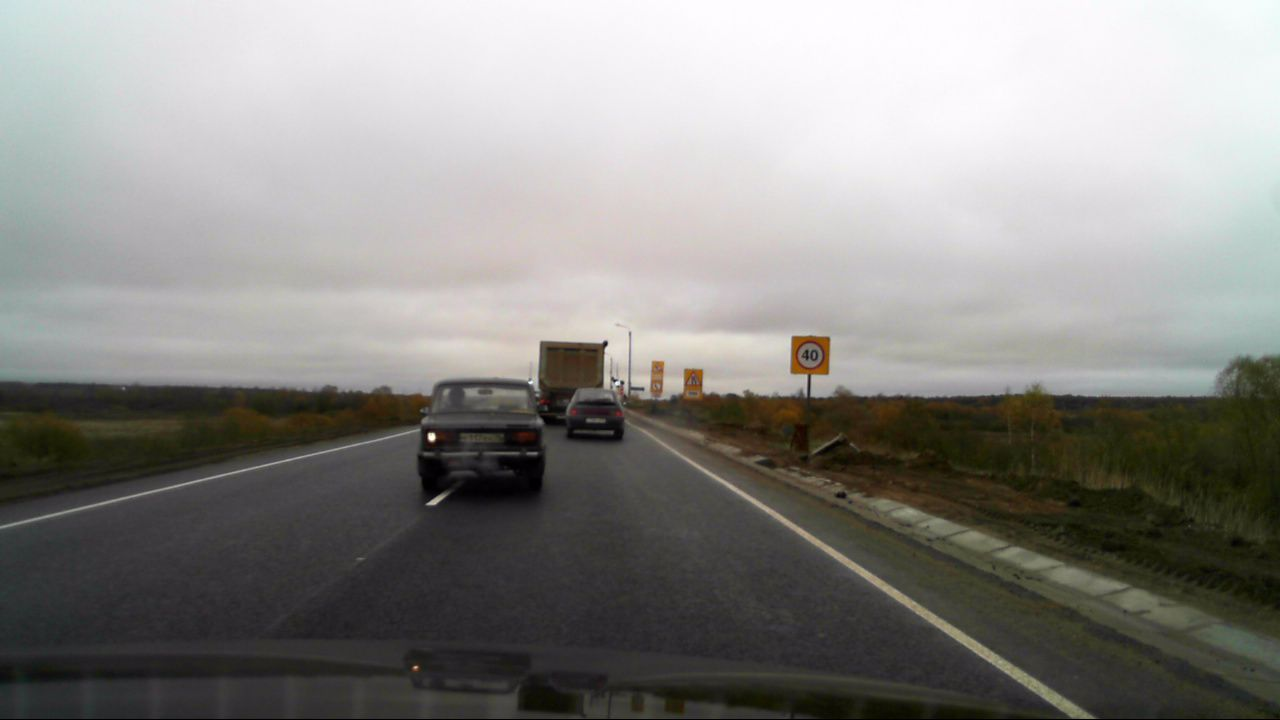speed_warning_40: (790, 335, 828, 373)
